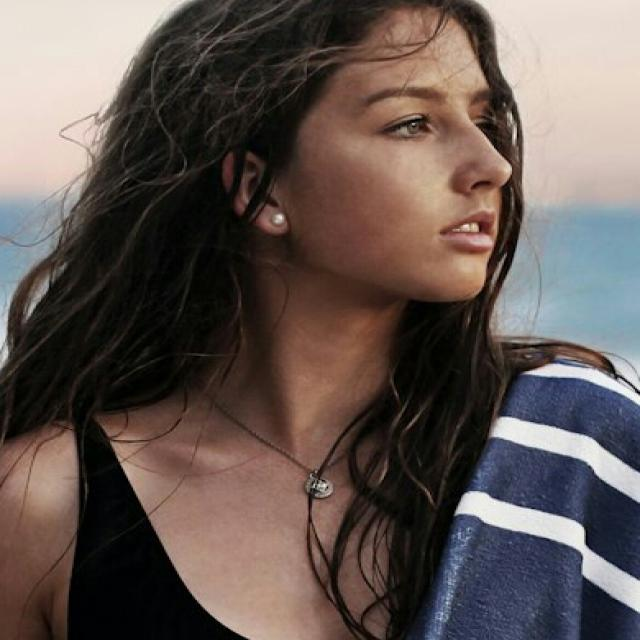front: (340, 76, 542, 264)
